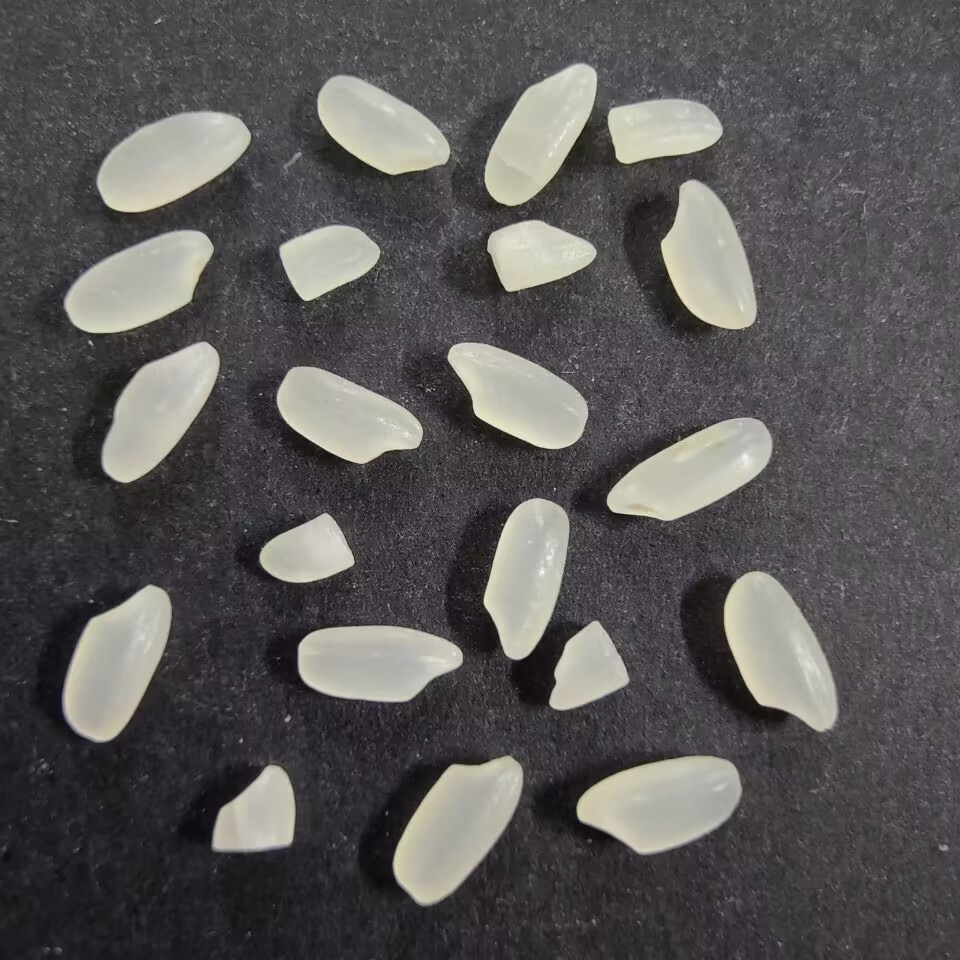broken: (204, 759, 297, 857), (485, 216, 598, 294), (604, 97, 726, 169), (276, 224, 385, 304), (252, 508, 359, 589), (542, 618, 633, 713)
rice: (390, 751, 525, 909), (599, 411, 776, 525), (722, 564, 838, 735), (58, 578, 171, 746), (570, 754, 748, 858), (97, 337, 223, 483), (481, 57, 599, 210), (61, 226, 216, 338), (654, 177, 761, 332), (95, 109, 253, 213), (445, 340, 593, 451), (275, 363, 425, 466), (480, 497, 569, 662), (316, 74, 452, 180), (293, 623, 467, 704)
